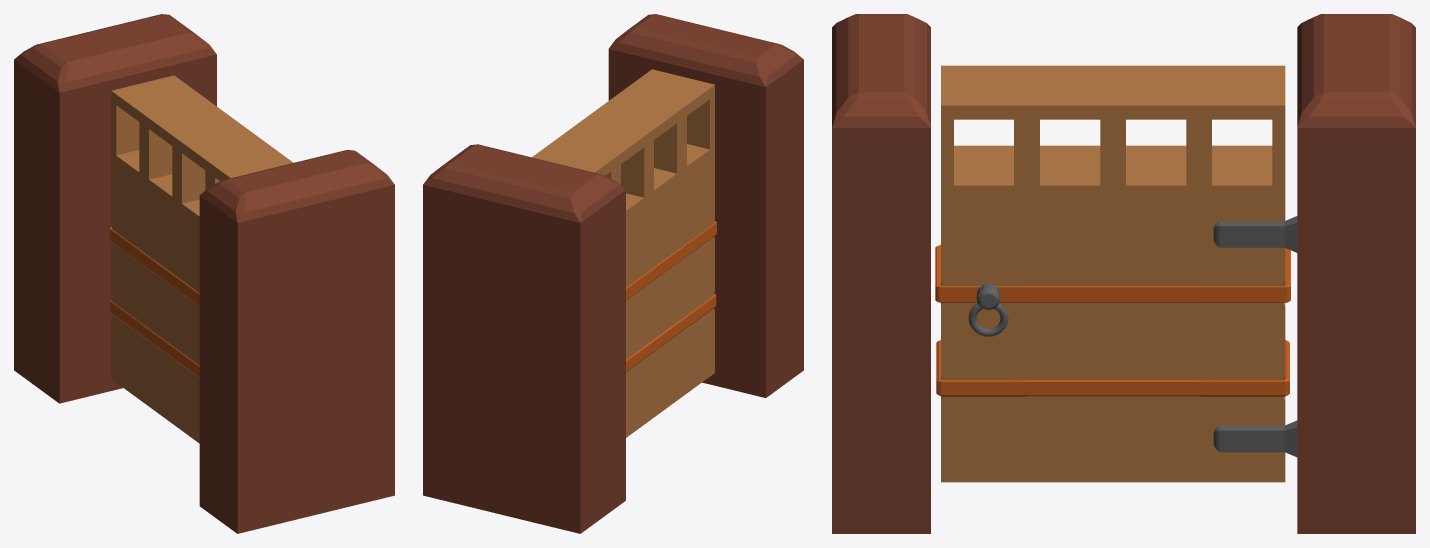
Rendered from Brick_Fence_Gate.fbx.
3 views of the same model, side by side, from view 1: azimuth 30°, elevation 25°; view 2: azimuth 150°, elevation 25°; view 3: azimuth 270°, elevation 25° (orthographic). The views are drawn at different scales.
Visible parts, largest first — view 1: Tri_Brick_Fence, Door_Knocker; view 2: Tri_Brick_Fence, Door_Knocker; view 3: Door_Knocker, Tri_Brick_Fence.
Part boxes in pixels (<box>): Tri_Brick_Fence: <box>14,14,394,533</box>; Door_Knocker: <box>109,75,293,443</box>; Tri_Brick_Fence: <box>423,14,803,533</box>; Door_Knocker: <box>532,69,716,437</box>; Door_Knocker: <box>935,65,1297,482</box>; Tri_Brick_Fence: <box>832,14,1415,533</box>.
Size of the model in its own units: 200 by 400 by 492.
